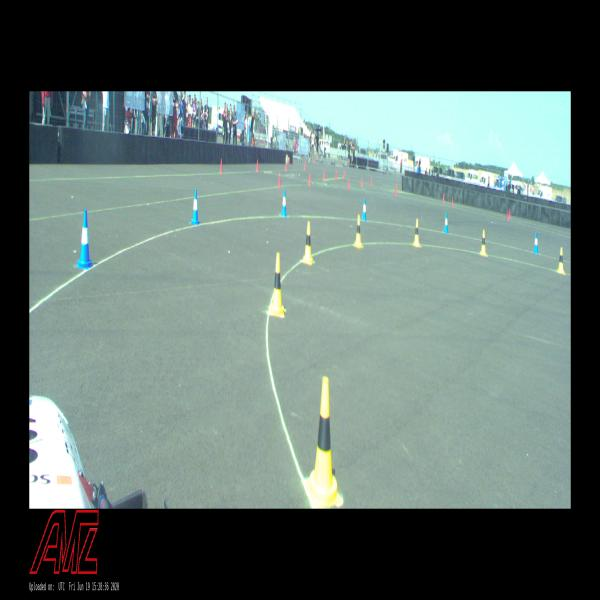blue_cone: (76, 210, 94, 269), (190, 189, 200, 225), (281, 190, 287, 216), (443, 212, 449, 234), (533, 233, 539, 254), (362, 199, 366, 220)
unknown_cone: (278, 172, 281, 188), (308, 173, 311, 186), (347, 178, 350, 189), (451, 196, 454, 207), (220, 158, 222, 173), (394, 186, 397, 196), (507, 209, 509, 221), (256, 160, 258, 171), (323, 170, 325, 181), (509, 208, 511, 219), (442, 193, 444, 203), (370, 177, 372, 186), (285, 162, 287, 170), (361, 176, 362, 186)
yellow_cone: (306, 377, 341, 506), (269, 253, 284, 316), (302, 221, 312, 264), (354, 215, 362, 247), (556, 248, 564, 274), (413, 219, 420, 246), (480, 230, 487, 256)
